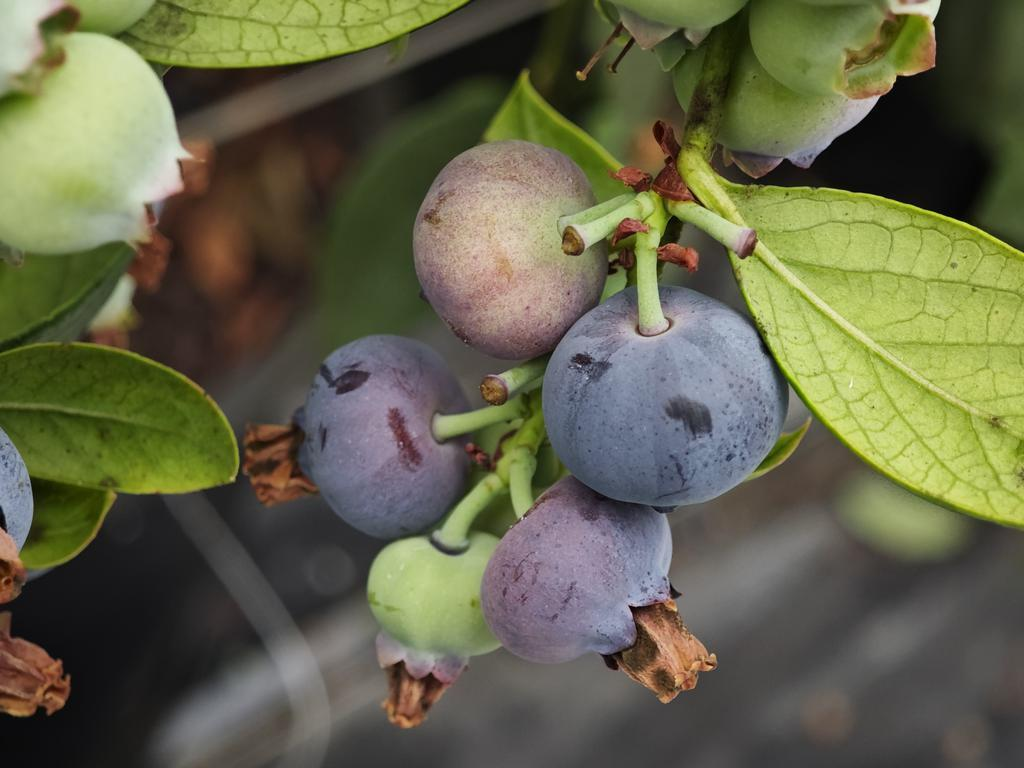RipeBlueBerry: (540, 279, 793, 514), (288, 329, 471, 543), (484, 479, 679, 672)
Semi-RipeBlueBerry: (409, 139, 612, 362)
